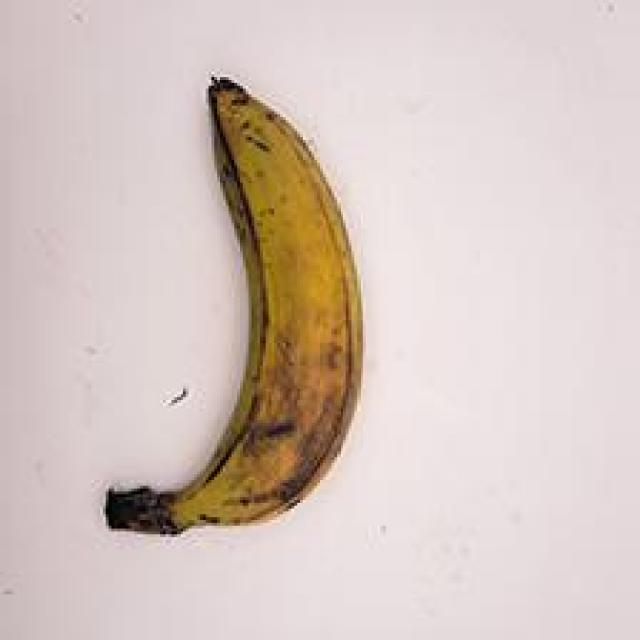Overripe: (86, 60, 382, 554)
